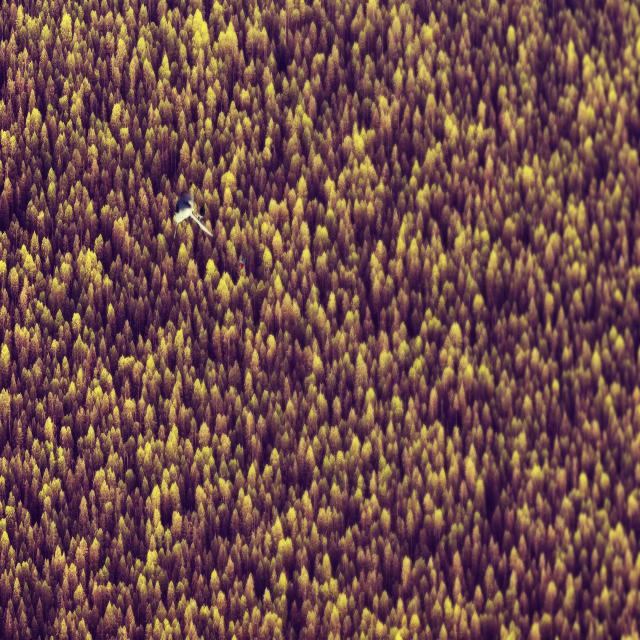airplane: (172, 191, 213, 239)
